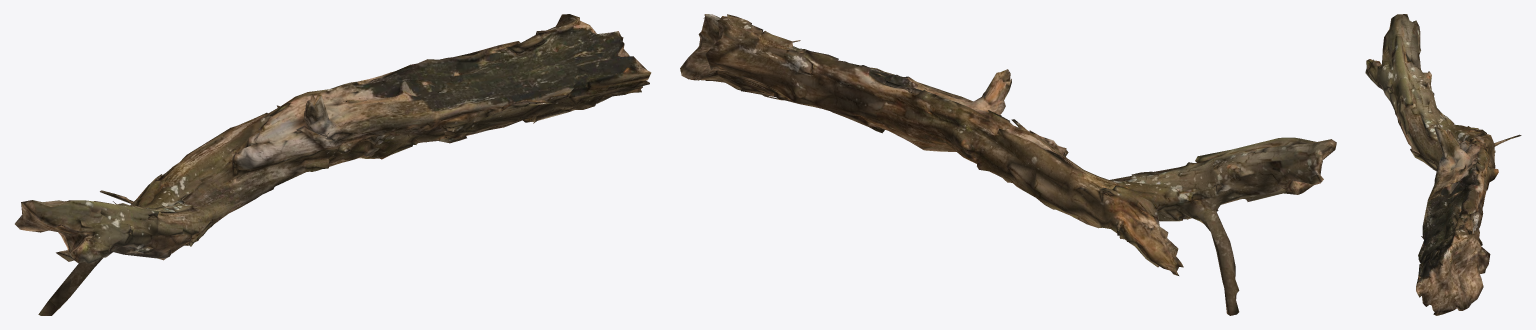
Rendered from dead_tree_trunk_02.glb.
The picture shows the model from 3 angles, left to right: view 1: azimuth 30°, elevation 25°; view 2: azimuth 150°, elevation 25°; view 3: azimuth 270°, elevation 25°; orthographic projection. The views are drawn at different scales.
Visible parts, largest first — view 1: dead_tree_trunk_02; view 2: dead_tree_trunk_02; view 3: dead_tree_trunk_02.
Boxes of the visible parts, box(x1,y1,x2,y2) form: dead_tree_trunk_02: box(15, 14, 651, 315); dead_tree_trunk_02: box(680, 14, 1336, 315); dead_tree_trunk_02: box(1365, 14, 1521, 315).
Size of the model in its own units: 4.05 by 1.05 by 1.05.
1 material, 1 textured.
